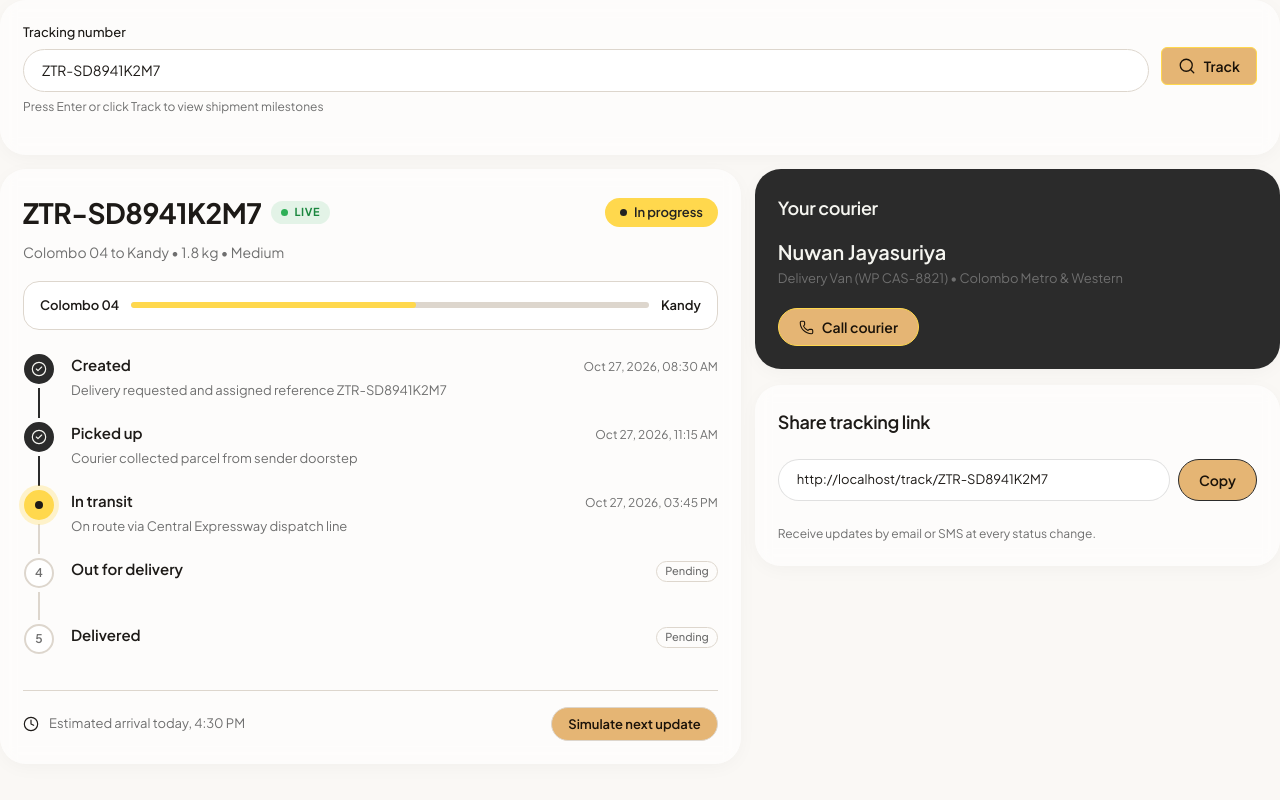
TrackView and Tracking Pages › handles clipboard copy and fallback text "Select the link and copy it" if clipboard is blocked
Click the button "Copy" at (1217, 480), box top-left (1178, 459), bottom-right (1257, 501)
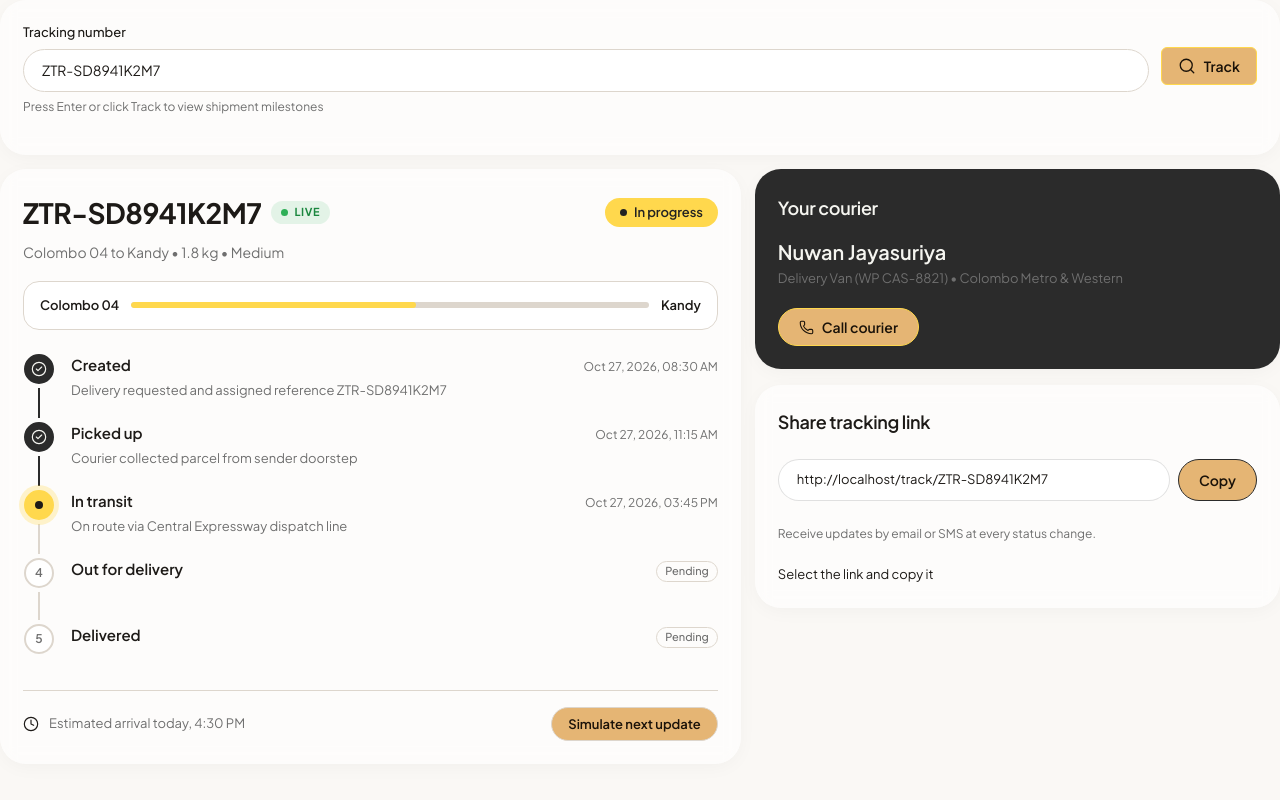
Now the text "Select the link and copy it" is shown, box top-left (778, 566), bottom-right (934, 582)
